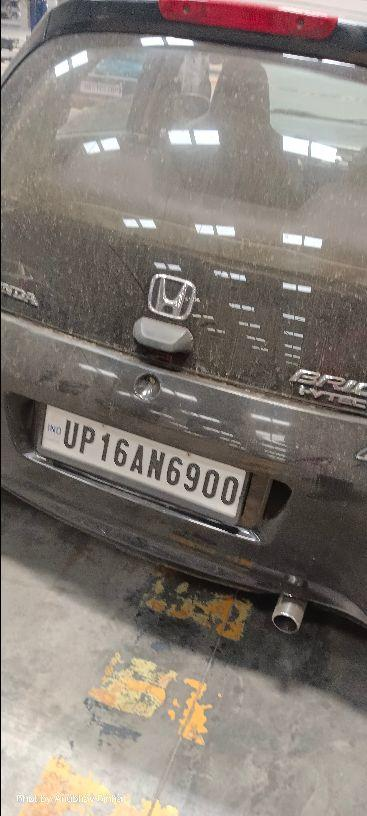license_plate: (34, 400, 252, 527)
